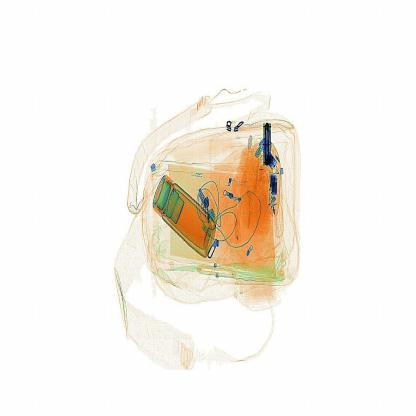scissors: (252, 113, 279, 172)
